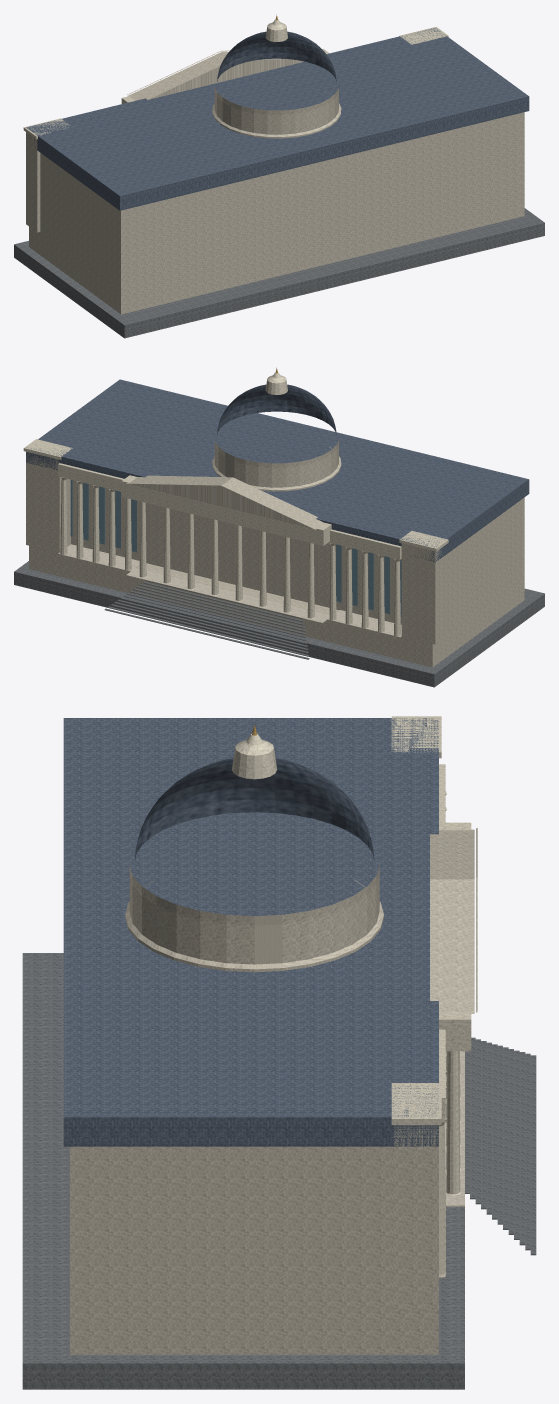
The model's file is CIV01_hlod.glb.
3 views of the same model, one above another, from view 1: azimuth 30°, elevation 25°; view 2: azimuth 150°, elevation 25°; view 3: azimuth 270°, elevation 25° (orthographic). The views are drawn at different scales.
Parts seen in each view (by area): view 1: HLOD_Roof__roof, HLOD_MainBody__limestone, HLOD_Podium__granite, HLOD_Slab__limestone, HLOD_DomeDrum__limestone, Facade_Pediment__limestone, HLOD_Dome__roof, HLOD_Corner__limestone, HLOD_Corner__lightstone, HLOD_Lantern__lightstone; view 2: HLOD_Roof__roof, HLOD_MainBody__limestone, HLOD_Slab__limestone, HLOD_Podium__granite, HLOD_Corner__limestone, HLOD_Stairs__granite, HLOD_WingColumns__lightstone, HLOD_FrontColumns__lightstone, Facade_Pediment__limestone, HLOD_DomeDrum__limestone, HLOD_PorticoRoof__lightstone, HLOD_LoggiaGlass__glass (+6 smaller); view 3: HLOD_Roof__roof, HLOD_MainBody__limestone, HLOD_Podium__granite, HLOD_Slab__limestone, HLOD_DomeDrum__limestone, HLOD_Stairs__granite, HLOD_Dome__roof, HLOD_Corner__limestone, Facade_Pediment__limestone, HLOD_Corner__lightstone, HLOD_FrontColumns__lightstone, HLOD_Lantern__lightstone (+4 smaller).
Part boxes in pixels (<box>): HLOD_Roof__roof: <box>26,28,529,210</box>; HLOD_MainBody__limestone: <box>40,112,524,290</box>; HLOD_Podium__granite: <box>14,208,544,338</box>; HLOD_Slab__limestone: <box>29,192,524,314</box>; HLOD_DomeDrum__limestone: <box>212,85,341,138</box>; Facade_Pediment__limestone: <box>127,52,303,100</box>; HLOD_Dome__roof: <box>217,31,336,81</box>; HLOD_Corner__limestone: <box>26,132,40,232</box>; HLOD_Corner__lightstone: <box>23,27,448,139</box>; HLOD_Lantern__lightstone: <box>265,19,287,41</box>; HLOD_Roof__roof: <box>26,379,529,562</box>; HLOD_MainBody__limestone: <box>71,480,524,633</box>; HLOD_Slab__limestone: <box>29,545,524,667</box>; HLOD_Podium__granite: <box>14,561,544,687</box>; HLOD_Corner__limestone: <box>26,452,446,644</box>; HLOD_Stairs__granite: <box>104,580,309,659</box>; HLOD_WingColumns__lightstone: <box>60,477,400,636</box>; HLOD_FrontColumns__lightstone: <box>139,501,314,618</box>; Facade_Pediment__limestone: <box>128,475,323,529</box>; HLOD_DomeDrum__limestone: <box>212,438,341,491</box>; HLOD_PorticoRoof__lightstone: <box>121,475,331,545</box>; HLOD_LoggiaGlass__glass: <box>70,480,401,616</box>; HLOD_Roof__roof: <box>63,718,438,1146</box>; HLOD_MainBody__limestone: <box>70,1146,393,1308</box>; HLOD_Podium__granite: <box>22,953,464,1389</box>; HLOD_Slab__limestone: <box>70,1308,438,1354</box>; HLOD_DomeDrum__limestone: <box>125,864,383,972</box>; HLOD_Stairs__granite: <box>465,1037,536,1255</box>; HLOD_Dome__roof: <box>134,758,374,861</box>; HLOD_Corner__limestone: <box>393,1125,438,1310</box>; Facade_Pediment__limestone: <box>430,829,474,1013</box>; HLOD_Corner__lightstone: <box>391,716,441,1124</box>; HLOD_FrontColumns__lightstone: <box>445,1051,460,1195</box>; HLOD_Lantern__lightstone: <box>232,733,277,779</box>.
Bounding box in the file's own units: 150 × 78.5 × 79.3.
Materials: 7 (7 with a texture image).
